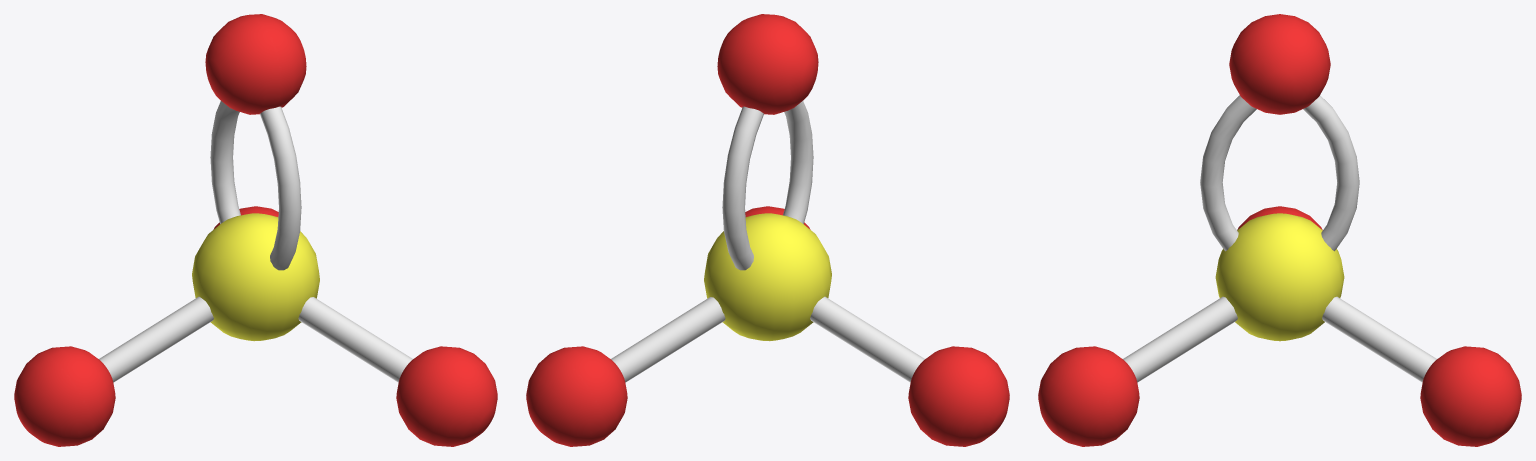
File: phosphate.glb
3 views of the same model, side by side, from view 1: azimuth 30°, elevation 25°; view 2: azimuth 150°, elevation 25°; view 3: azimuth 270°, elevation 25° (orthographic).
Visible parts, largest first — view 1: phonsphate_all; view 2: phonsphate_all; view 3: phonsphate_all.
Part boxes in pixels (x1,y1,x2,y2): phonsphate_all: (14,14,497,446); phonsphate_all: (526,14,1009,446); phonsphate_all: (1038,14,1521,446).
Bounding box in the file's own units: 1.27 × 1.23 × 1.43.
Materials: 1 (1 with a texture image).
